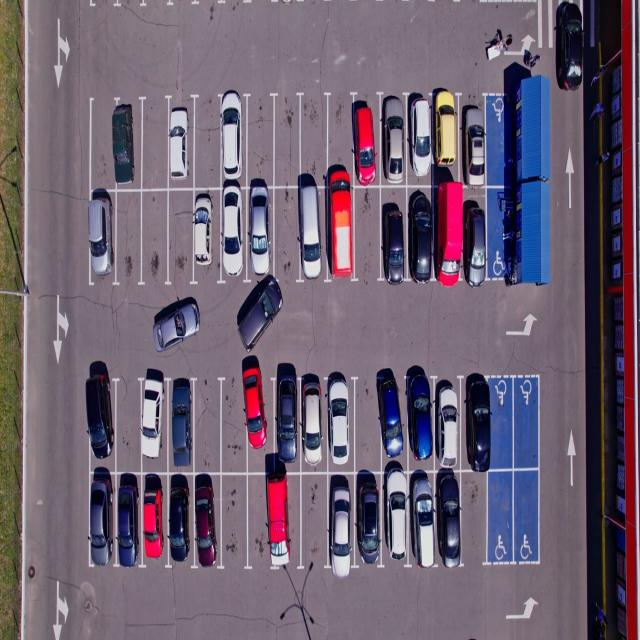space-empty: (192, 377, 225, 473), (509, 469, 541, 565), (113, 190, 145, 284), (352, 188, 384, 282), (220, 372, 250, 472), (485, 470, 516, 566), (300, 475, 331, 570), (458, 469, 488, 567), (140, 191, 171, 285), (509, 376, 540, 470), (219, 476, 250, 568), (166, 191, 196, 286), (114, 375, 144, 469), (272, 185, 300, 282), (193, 98, 223, 188), (140, 97, 170, 186), (353, 376, 382, 468), (246, 94, 276, 182), (272, 95, 302, 182), (244, 476, 271, 572), (90, 94, 116, 190), (299, 94, 328, 178), (328, 95, 356, 178)
space-occupied: (267, 473, 303, 570), (244, 370, 278, 470), (378, 468, 412, 568), (432, 183, 464, 287), (326, 471, 359, 571), (352, 472, 385, 572), (83, 374, 116, 474), (409, 472, 442, 570), (465, 189, 497, 289), (296, 186, 328, 284), (167, 375, 200, 470), (272, 372, 304, 469), (192, 472, 224, 568), (216, 186, 248, 282), (326, 185, 358, 281), (137, 472, 169, 568), (326, 376, 358, 471), (247, 188, 279, 283), (296, 374, 327, 472), (85, 473, 116, 571), (113, 99, 146, 191), (138, 377, 170, 471), (376, 373, 407, 470), (378, 186, 409, 282), (407, 187, 437, 286), (434, 470, 464, 568), (168, 474, 198, 571), (193, 188, 224, 281), (168, 98, 200, 188), (86, 190, 116, 286), (406, 92, 438, 182), (114, 472, 144, 568), (434, 369, 462, 471), (464, 377, 494, 472), (406, 373, 436, 467), (431, 94, 462, 184), (218, 97, 249, 186), (461, 93, 491, 184), (378, 96, 408, 186), (352, 96, 382, 185)
